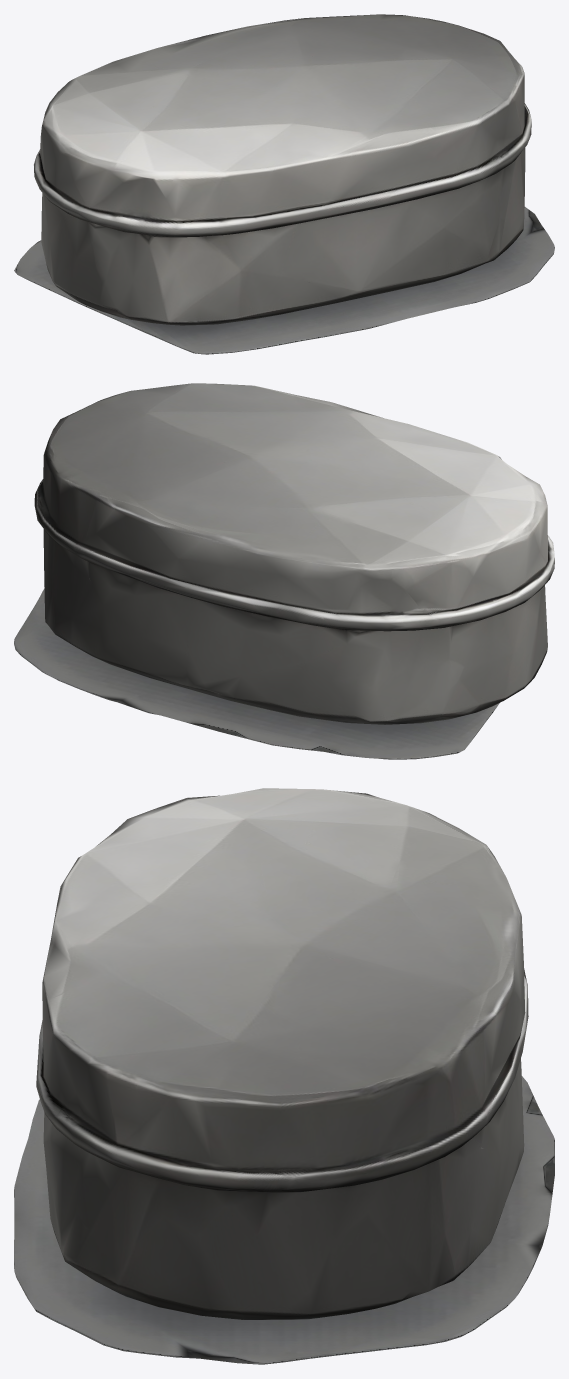
File: menthol+metal+box+3d+model.glb
3 renders of one model, top to bottom at view 1: azimuth 30°, elevation 25°; view 2: azimuth 150°, elevation 25°; view 3: azimuth 270°, elevation 25°, orthographic. The views are drawn at different scales.
Parts seen in each view (by area): view 1: tripo_node_f54f1f59-1051-4bdb-a3f6-ce7f10168f40; view 2: tripo_node_f54f1f59-1051-4bdb-a3f6-ce7f10168f40; view 3: tripo_node_f54f1f59-1051-4bdb-a3f6-ce7f10168f40.
Part boxes in pixels (x1,y1,x2,y2): tripo_node_f54f1f59-1051-4bdb-a3f6-ce7f10168f40: (14,14,554,354); tripo_node_f54f1f59-1051-4bdb-a3f6-ce7f10168f40: (14,383,554,759); tripo_node_f54f1f59-1051-4bdb-a3f6-ce7f10168f40: (14,788,554,1364).
Size of the model in its own units: 1 by 0.3893 by 0.6796.
Materials: 1 (1 with a texture image).
